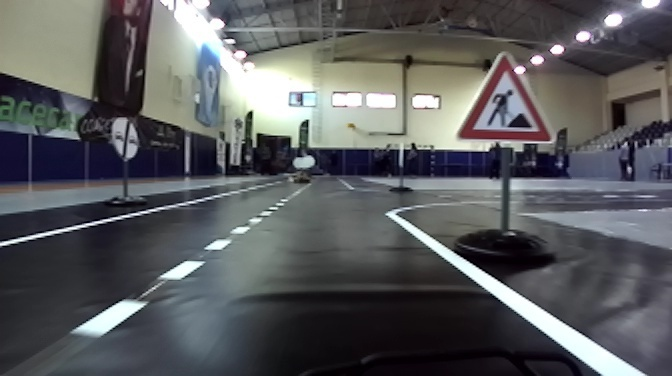yol_yapimi: (452, 48, 557, 148)
